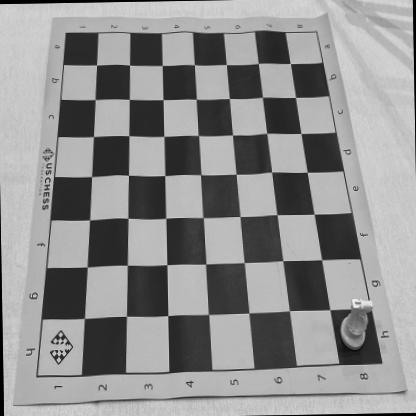knight: (338, 297, 374, 351)
